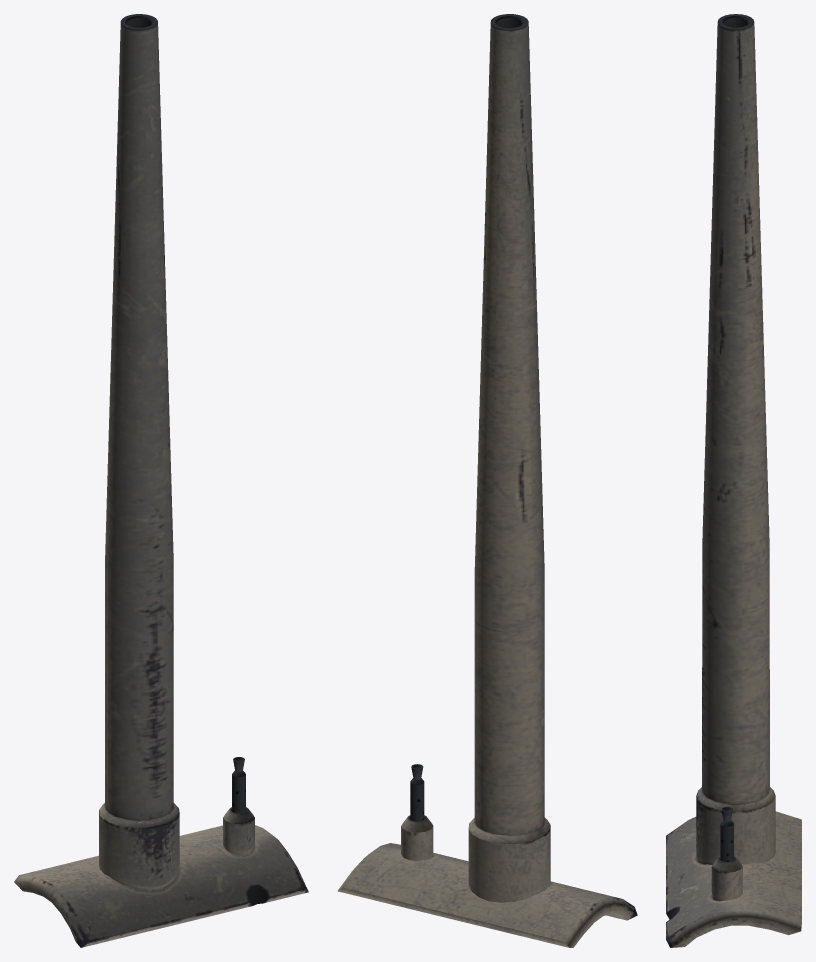
Rendered from Gun_01.glb.
The picture shows the model from 3 angles, left to right: view 1: azimuth 30°, elevation 25°; view 2: azimuth 150°, elevation 25°; view 3: azimuth 270°, elevation 25°; orthographic projection. The views are drawn at different scales.
Visible parts, largest first — view 1: set_0_group_0; view 2: set_0_group_0; view 3: set_0_group_0.
Boxes of the visible parts, x1,y1,x2,y2 form: set_0_group_0: [14, 14, 308, 947]; set_0_group_0: [337, 14, 637, 947]; set_0_group_0: [666, 14, 801, 947].
Size of the model in its own units: 0.7641 by 2.81 by 0.4025.
Materials: 1 (1 with a texture image).
